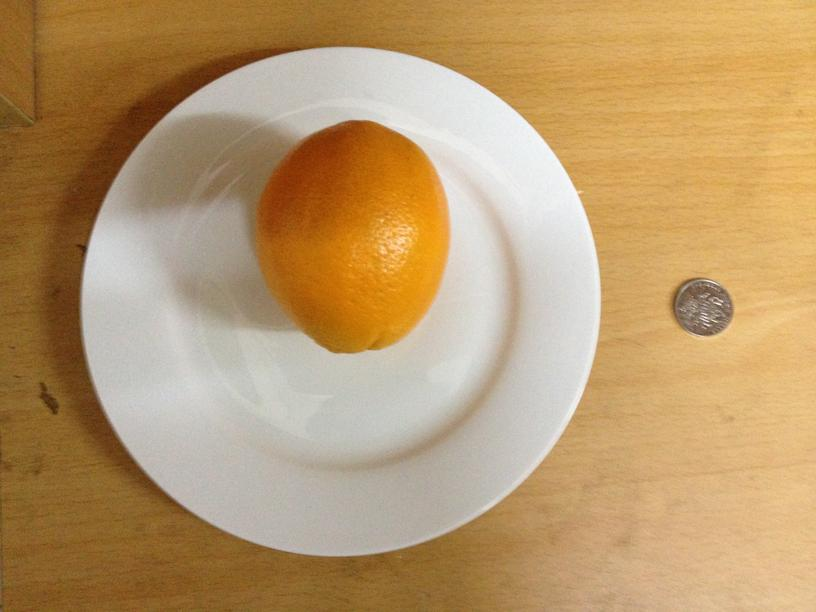coin: (674, 276, 733, 336)
orange: (265, 119, 444, 354)
